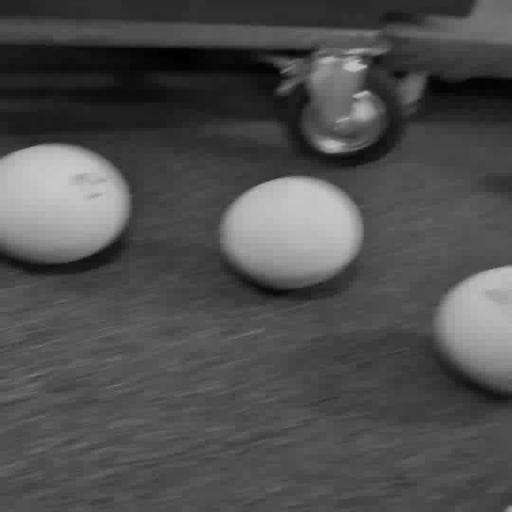fuel: (220, 176, 363, 289), (0, 144, 131, 265), (434, 266, 511, 395)
